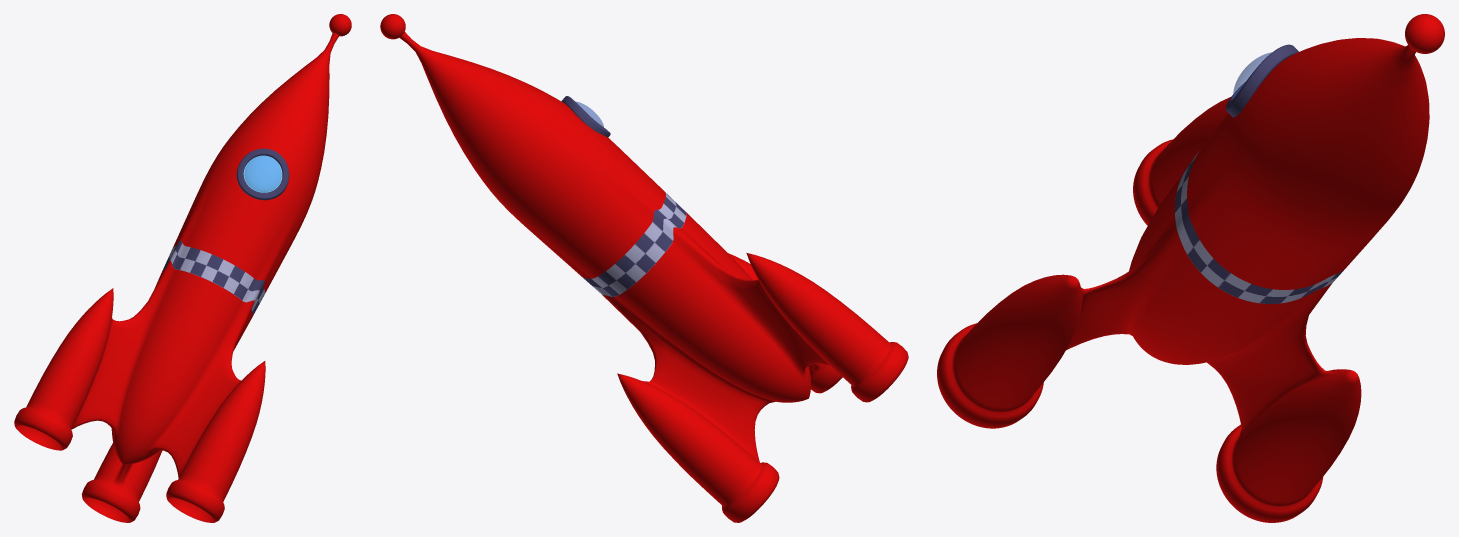
File: arkit-rocket.dae
3 renders of one model, left to right at view 1: azimuth 30°, elevation 25°; view 2: azimuth 150°, elevation 25°; view 3: azimuth 270°, elevation 25°, orthographic. The views are drawn at different scales.
Parts seen in each view (by area): view 1: Body, Backing, Rim, Glass, Ball; view 2: Body; view 3: Body, Rim, Ball.
Part boxes in pixels (x1,y1,x2,y2): Body: (14, 32, 338, 522); Backing: (243, 155, 282, 192); Rim: (236, 148, 289, 200); Glass: (244, 156, 281, 191); Ball: (329, 14, 351, 36); Body: (399, 32, 908, 522); Body: (937, 38, 1429, 522); Rim: (1226, 44, 1298, 117); Ball: (1405, 14, 1444, 53).
Bounding box in the file's own units: 0.963 × 0.9553 × 0.5995.
5 materials, 1 textured.
